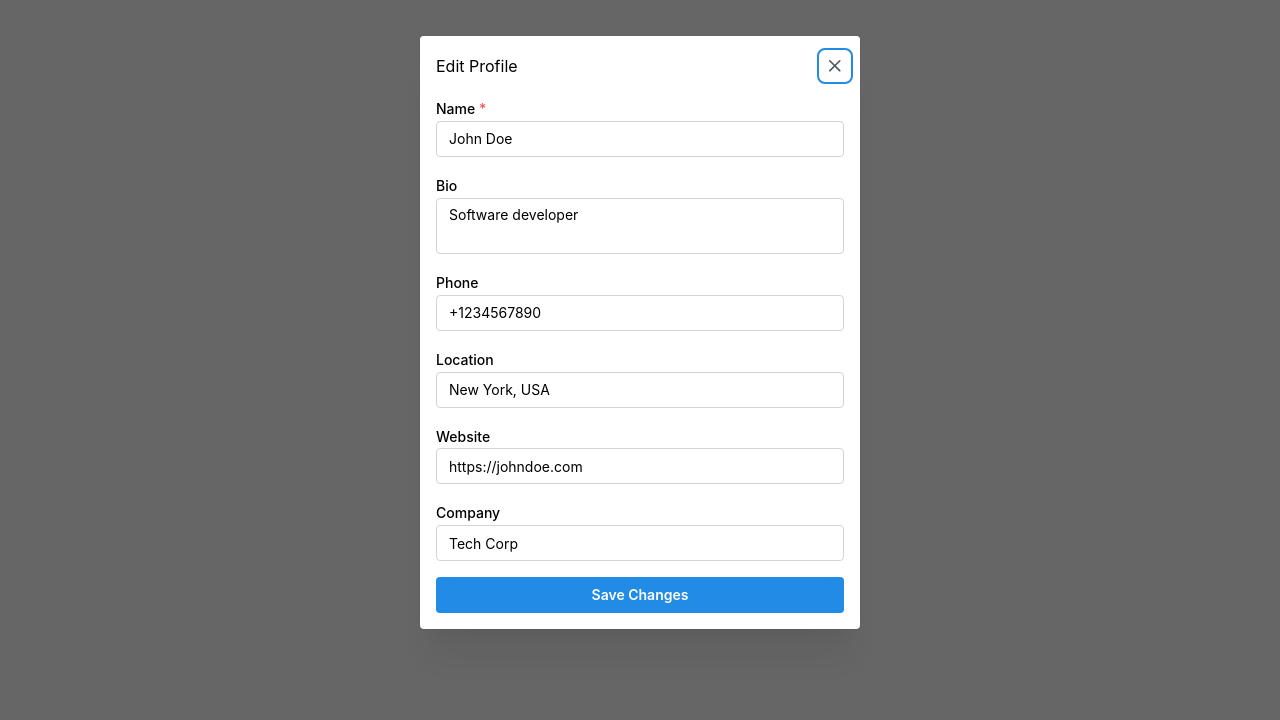
Scenario: EditProfileModal › should validate name field - minimum length
Replace the text in the field labelled "Name *" with "J" at (640, 139), box 436,121 -> 844,157
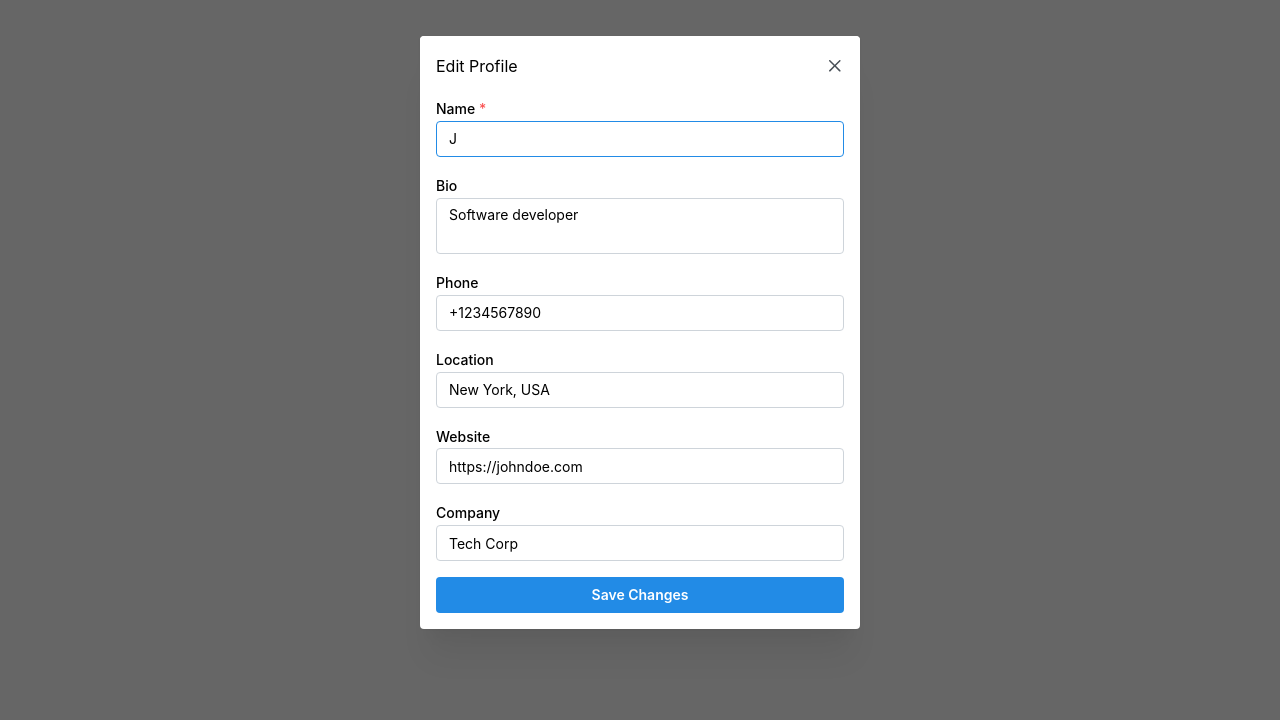
Click the button "Save Changes" at (640, 595), box 436,577 -> 844,613
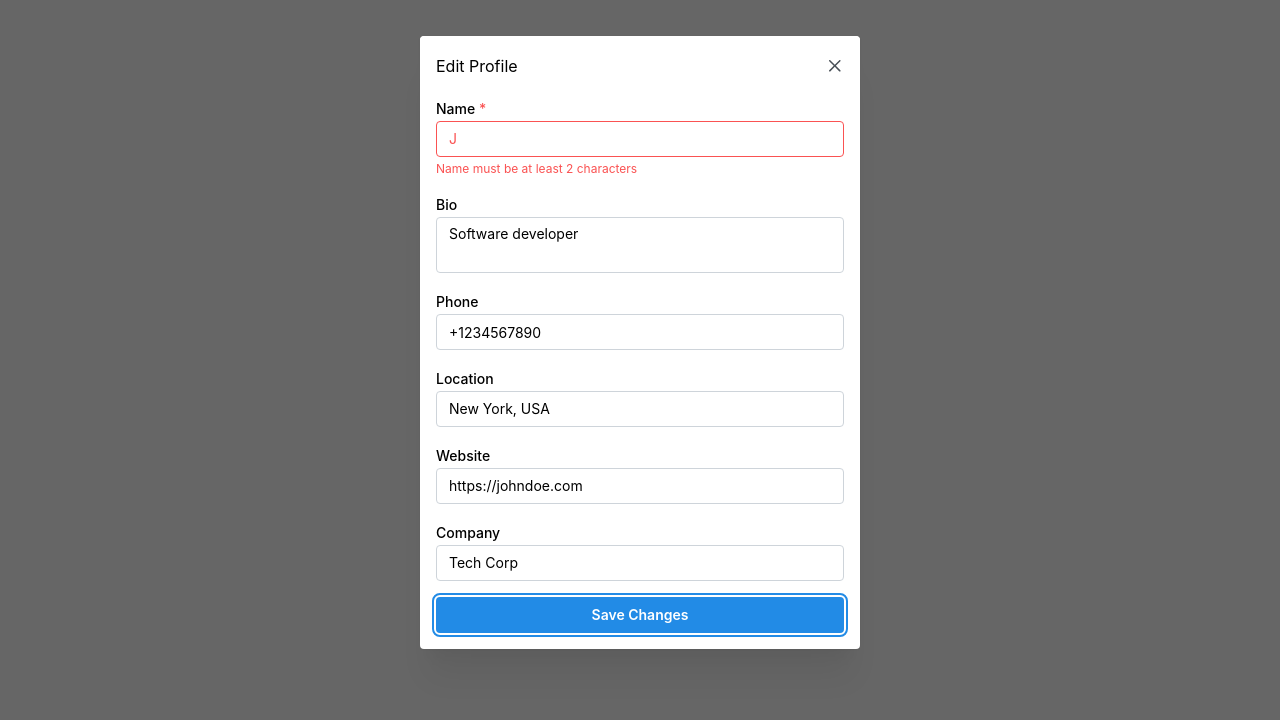
Check: the text "Name must be at least 2 characters" is shown, box 436,161 -> 637,176
